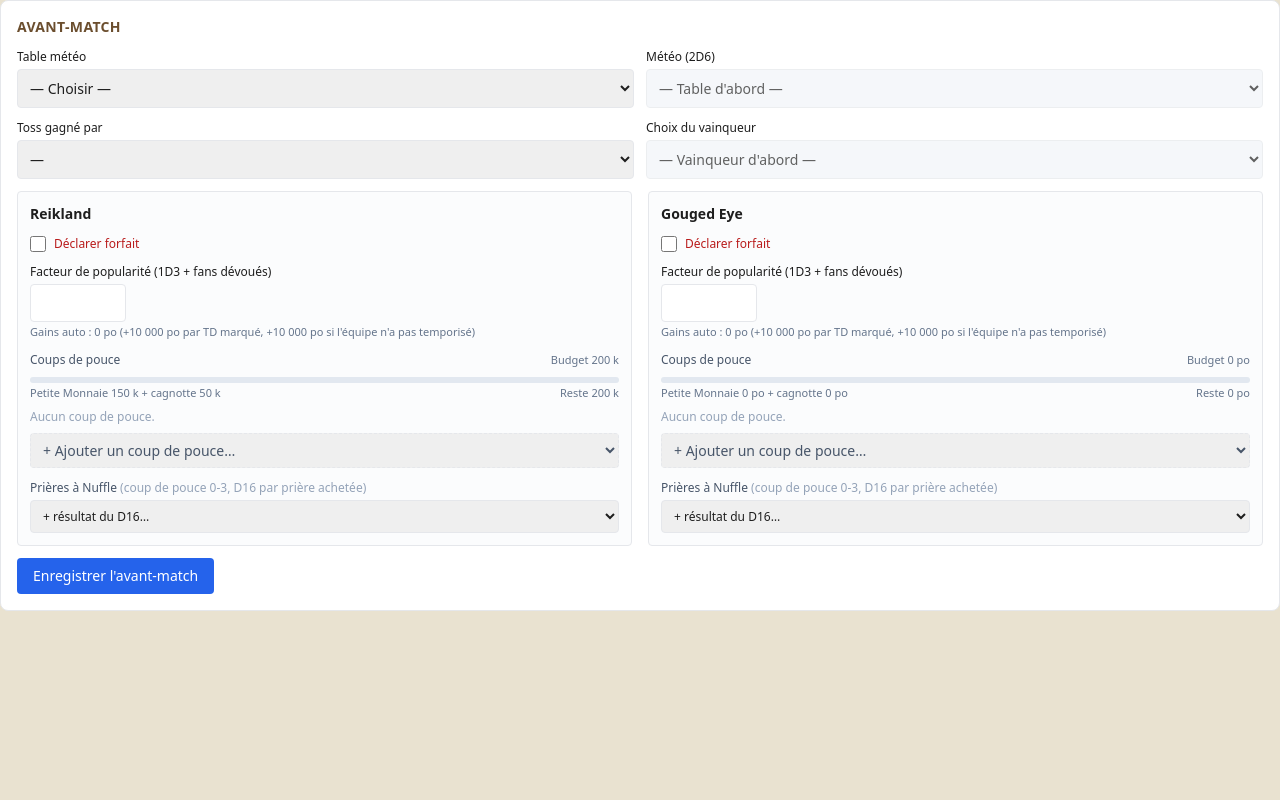
Scenario: PreMatchPanel — budget coups de pouce › ajoute un coup de pouce depuis le catalogue et bloque le dépassement
The width and height of the screenshot is (1280, 800).
Select "Magicien — 150 k" in the dropdown with test id "inducements-home-add". click: [324, 450]
box: [30, 433, 619, 468]
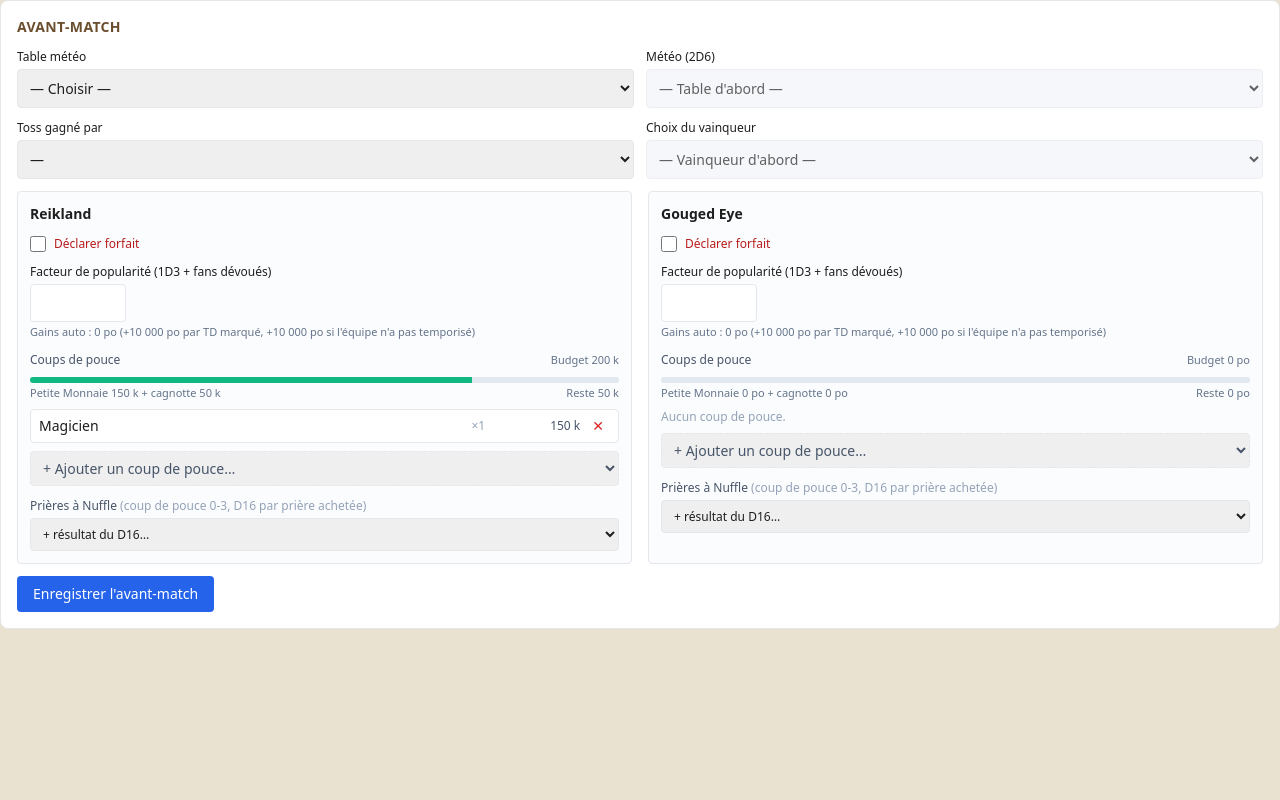
Expected: the button with test id "save-pre-match" is enabled, [17, 576, 214, 612]
Now the text "Magicien" is shown, box [39, 416, 99, 435]
Select "★ Morg 'n' Thorg — 380 k" in the dropdown with test id "inducements-home-add". click: [324, 468]
box: [30, 451, 619, 486]
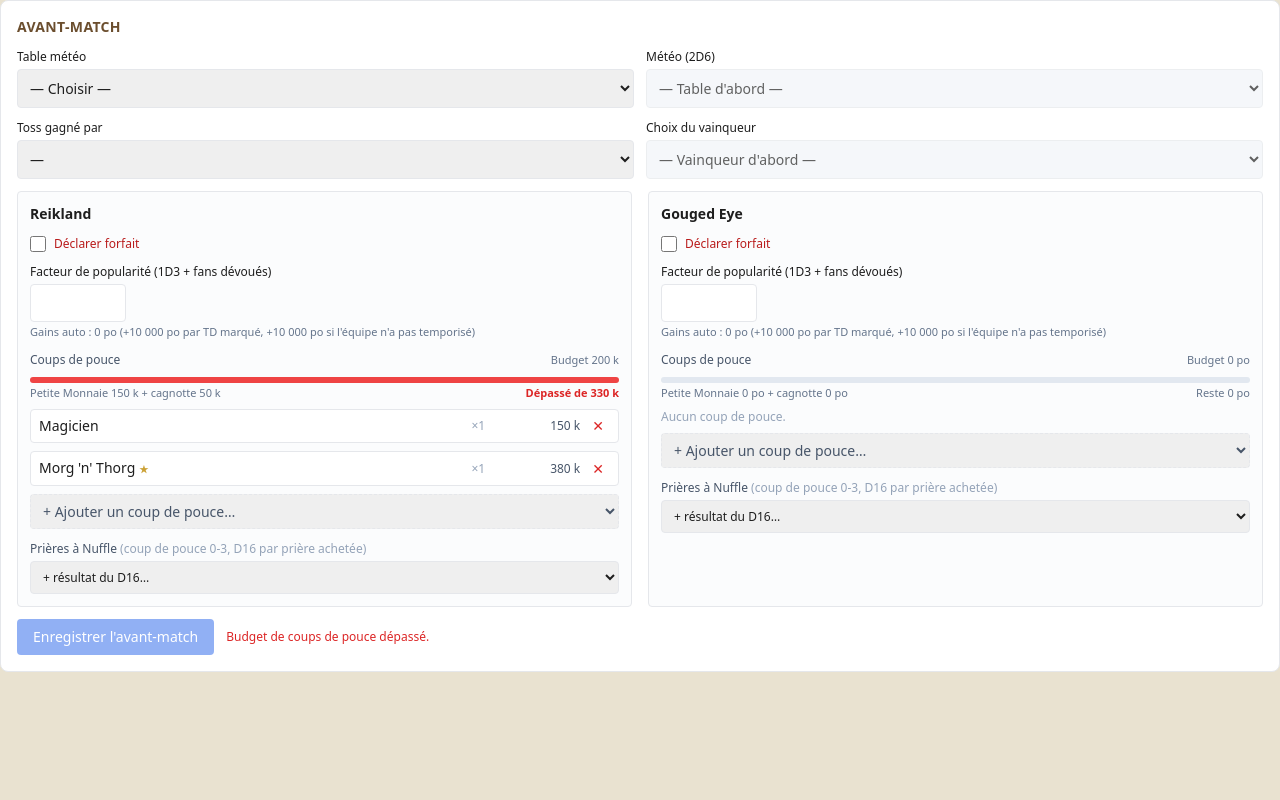
Now the text with test id "inducements-home-remaining" shows "Dépassé", box [526, 384, 619, 400]
Now the button with test id "save-pre-match" is disabled, box [17, 619, 214, 655]
